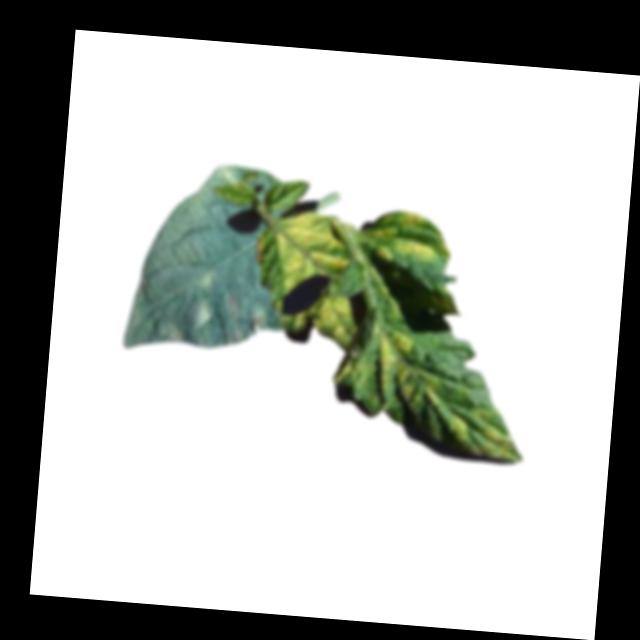Leaf_Mold: (163, 285, 268, 352), (369, 330, 449, 413), (275, 208, 353, 291), (370, 206, 454, 268), (449, 406, 526, 463), (304, 292, 360, 350)
